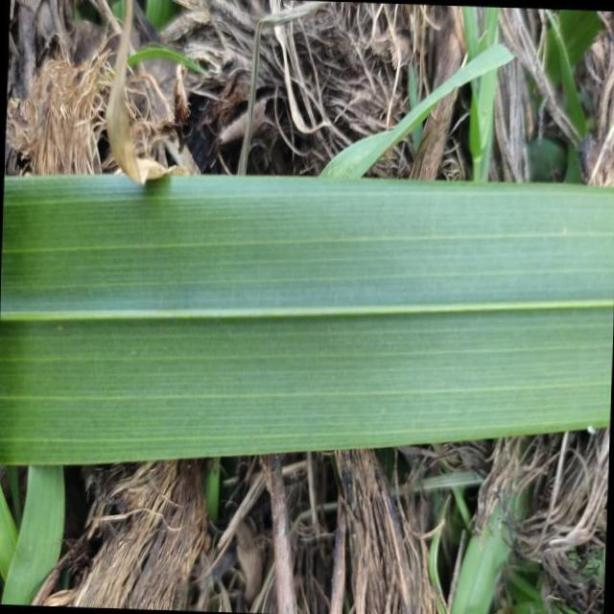Healthy: (0, 168, 614, 465)
